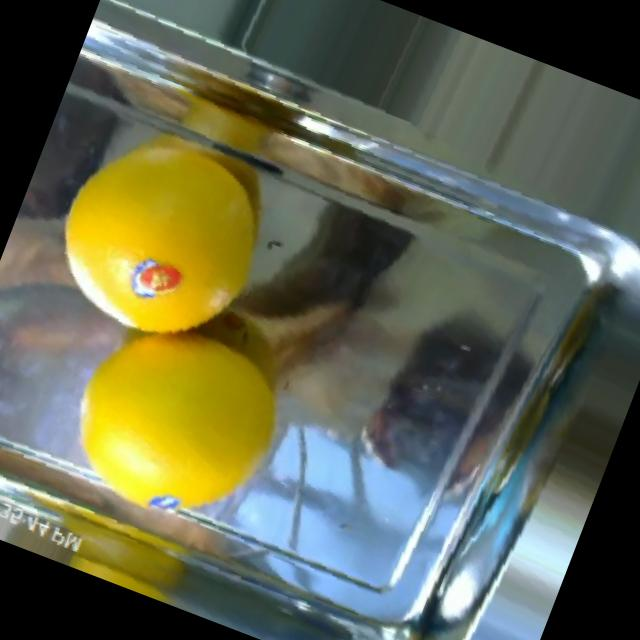Fruit: (76, 282, 332, 554)
